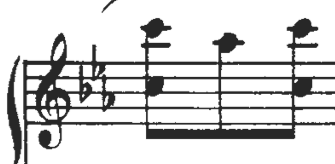flat: (88, 37, 111, 86), (75, 63, 97, 107), (100, 72, 119, 117)
treble_clef: (29, 27, 80, 158)
